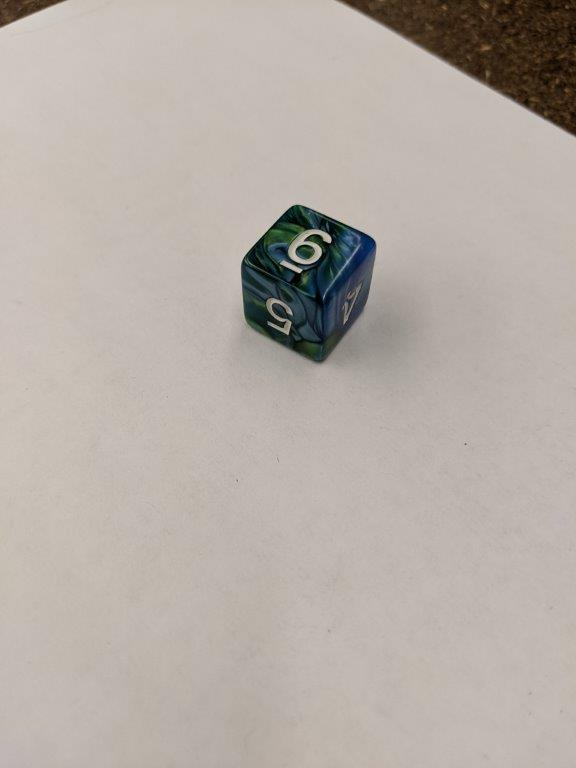d6-6: (242, 203, 376, 365)
